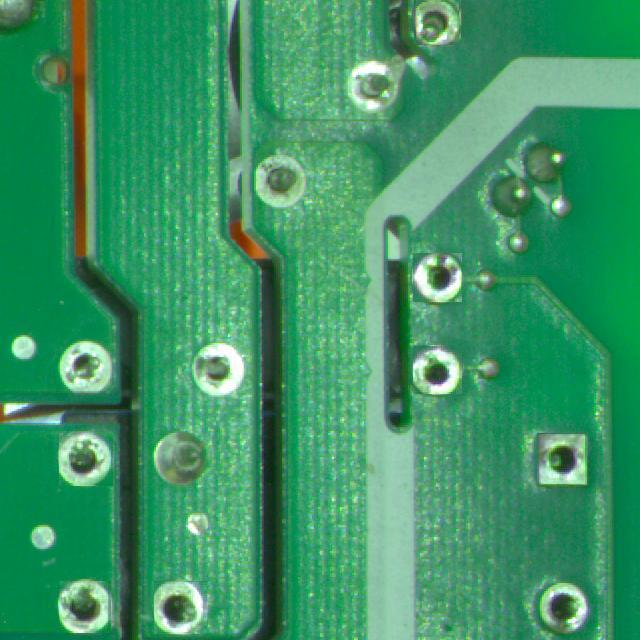low_solder: (60, 432, 112, 485), (154, 581, 205, 634), (60, 580, 110, 633), (539, 434, 587, 485), (412, 254, 462, 301), (414, 345, 461, 394), (416, 0, 459, 45)
